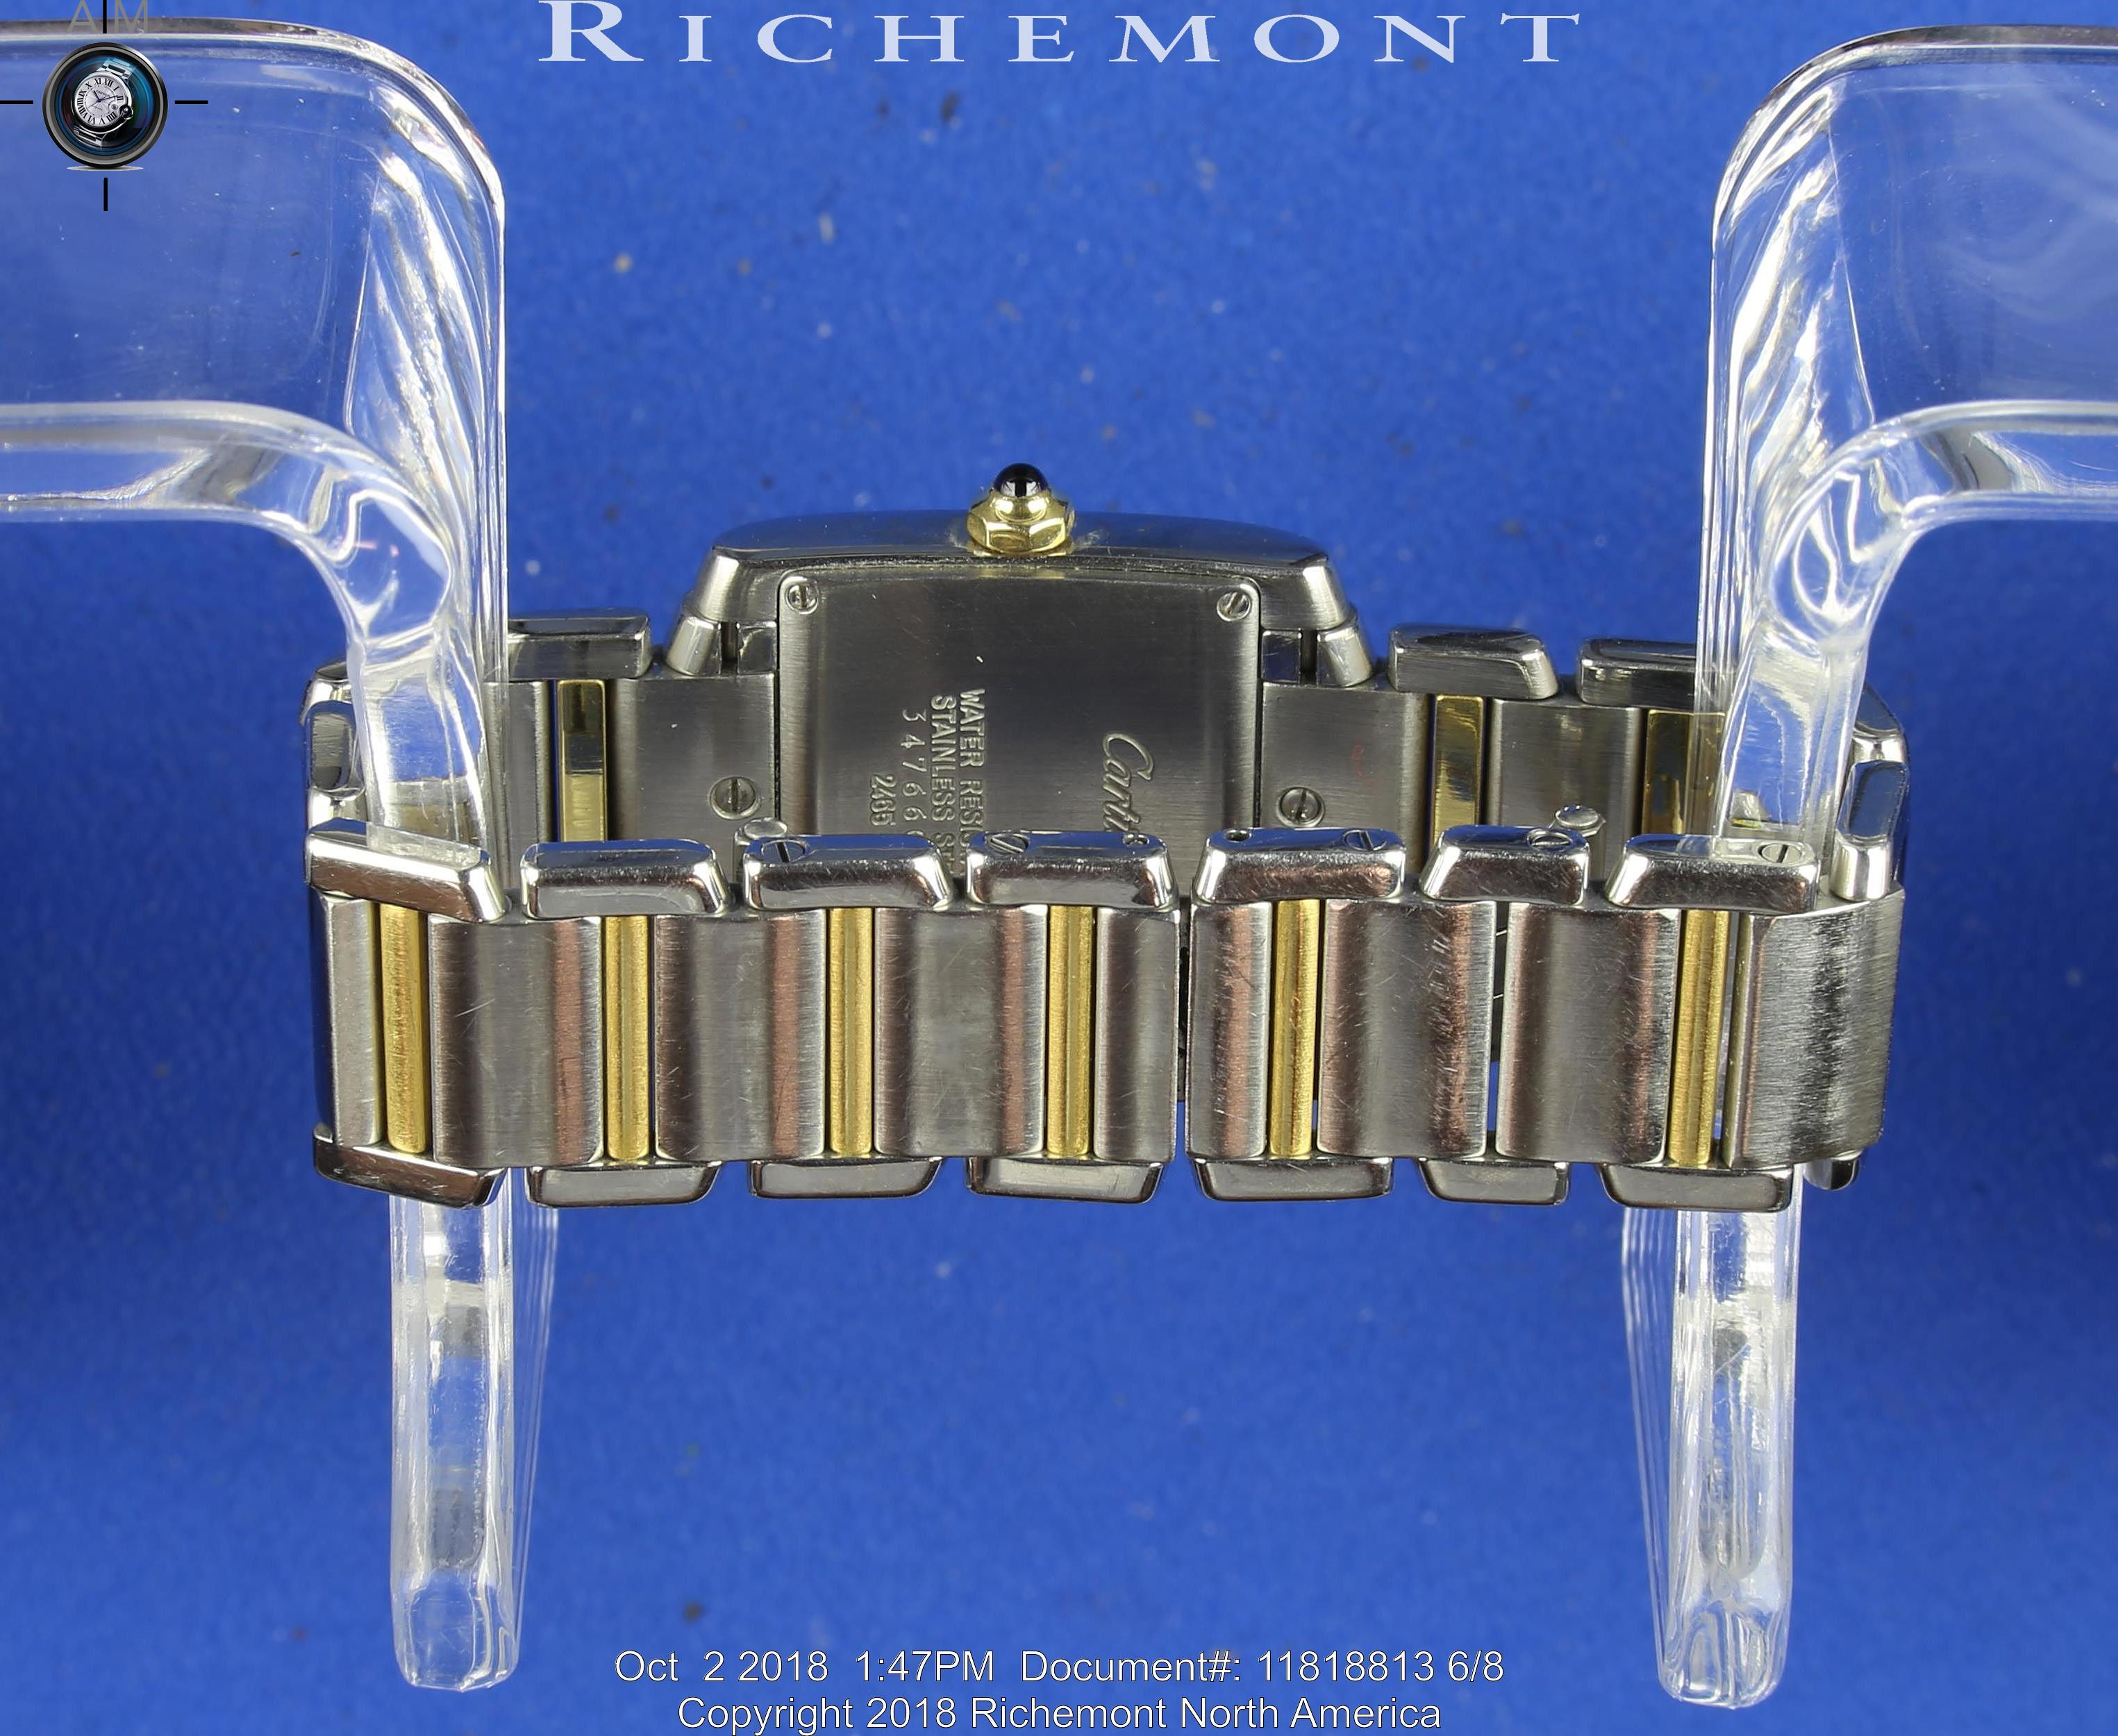watchback: (693, 545, 1365, 915)
